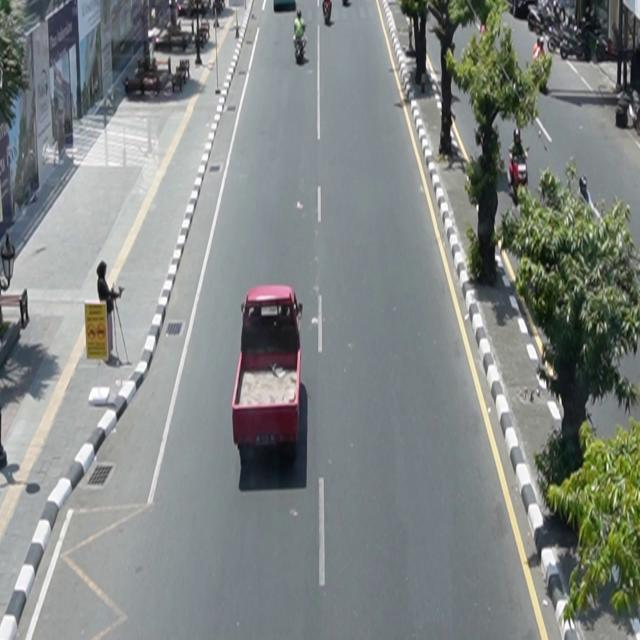car: (232, 285, 304, 462)
